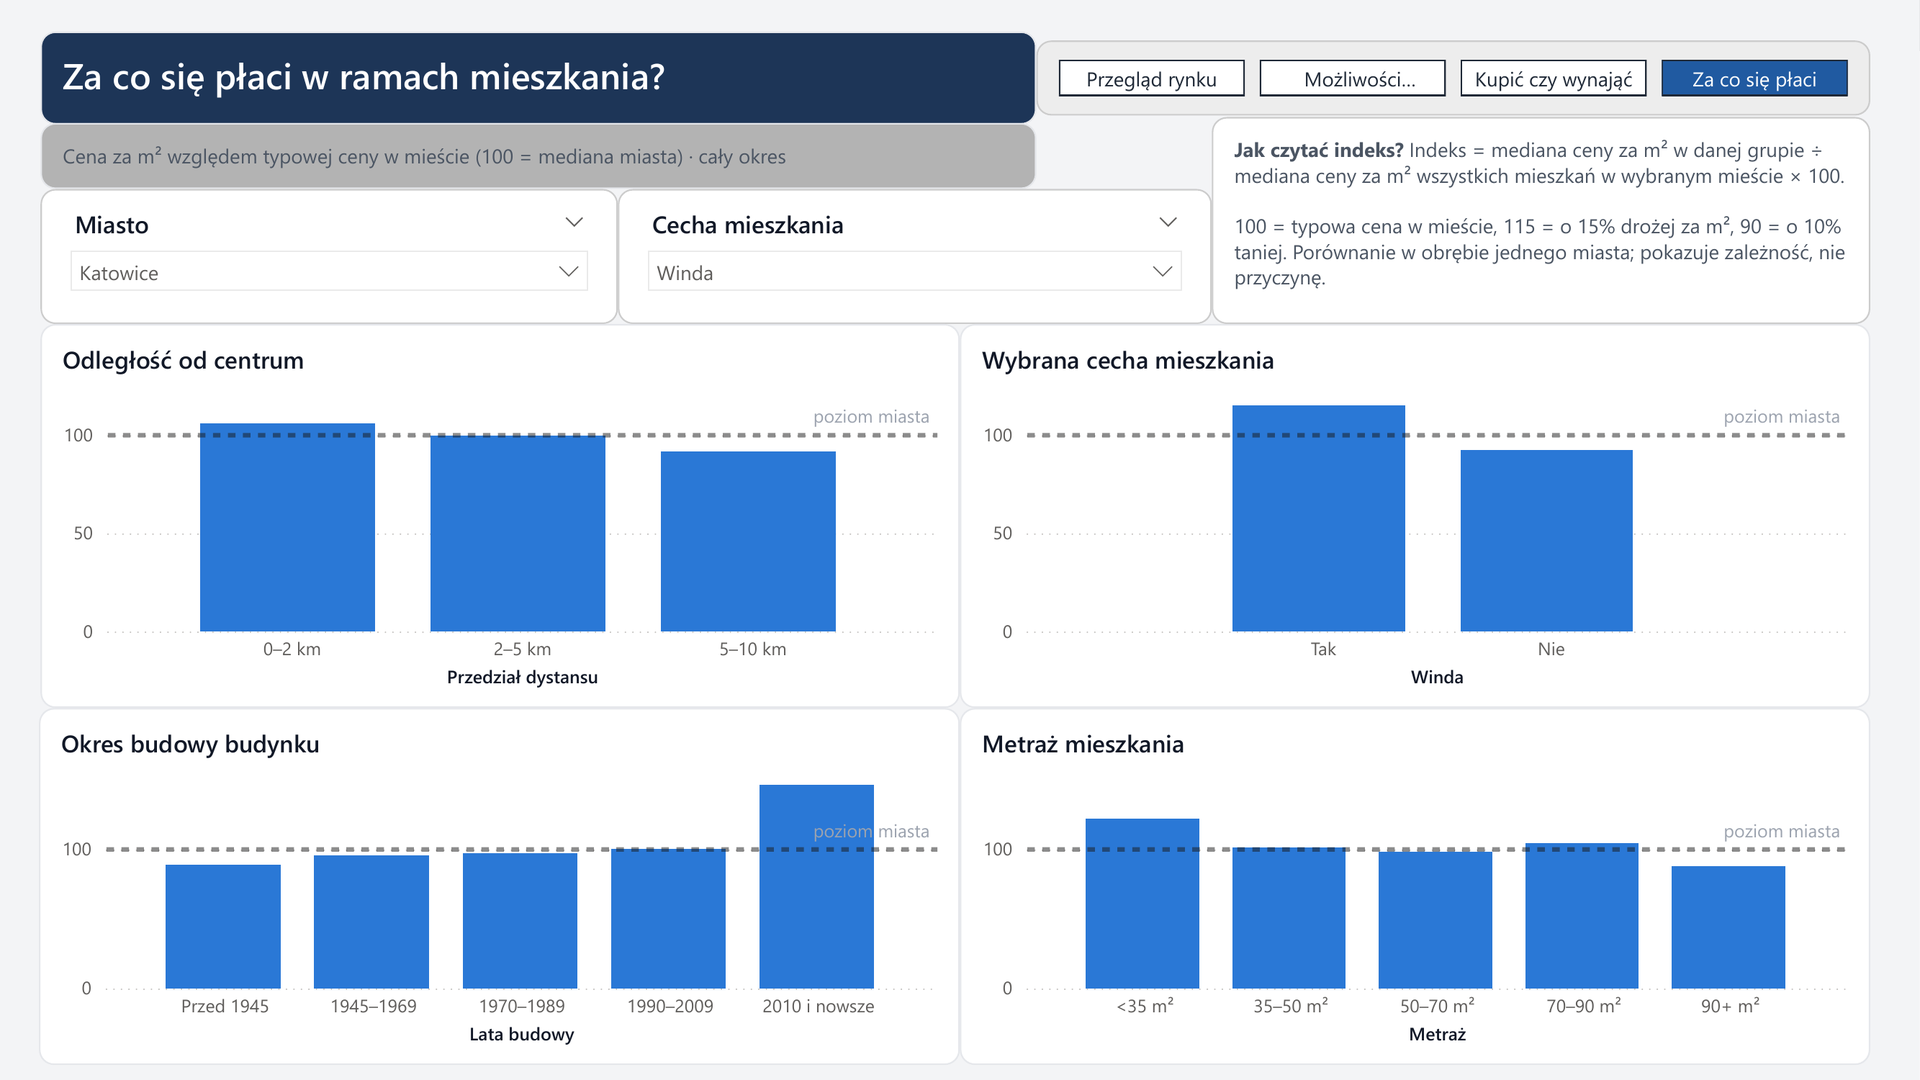

What the dashboard file says about the page in this screenshot:
{"tool":"powerbi","page":{"name":"Za co się płaci","canvas":[1280,720],"ordinal":3},"visuals":[{"type":"textbox","box":[26.5,21,664.3,61.9],"z":0},{"type":"textbox","box":[26.5,81.8,664.3,44.2],"z":1000},{"type":"pageNavigator","box":[690.8,26.5,556,50.8],"z":2000},{"type":"slicer","fields":{"Values":["Cecha mieszkania.Cecha mieszkania"]},"box":[412.2,126.3,395.6,90.1],"z":3000},{"type":"slicer","fields":{"Values":["dim_city.city_name"]},"box":[26.9,126.3,385.2,90.1],"z":4000},{"type":"clusteredColumnChart","title":"Odległość od centrum","fields":{"Category":["dim_listing.distance_zone"],"Y":["_Measures.Price Index vs City"]},"box":[26.9,216.4,613.1,255.8],"z":5000},{"type":"clusteredColumnChart","title":"Okres budowy budynku","fields":{"Y":["_Measures.Price Index vs City"],"Category":["dim_listing.build_era"]},"box":[25.9,472.2,614.1,238.2],"z":6000},{"type":"clusteredColumnChart","title":"Metraż mieszkania","fields":{"Category":["dim_listing.size_band"],"Y":["_Measures.Price Index vs City"]},"box":[640,472.2,606.9,238.2],"z":7000},{"type":"clusteredColumnChart","title":"Wybrana cecha mieszkania","fields":{"Category":["dim_listing.elevator"],"Y":["_Measures.Price Index vs City"]},"box":[640,216.4,606.9,255.8],"z":8000},{"type":"textbox","box":[807.8,77.7,439.1,138.8],"z":9000}]}

Visuals, with their boxes in screenshot pixels (x1, y1, x2, y2), scaled from the page's 1280x720 canvas onto the 1920x1080 screenshot:
textbox: (40,32,1036,124)
textbox: (40,123,1036,189)
pageNavigator: (1036,40,1870,116)
slicer - Cecha mieszkania.Cecha mieszkania: (618,189,1212,325)
slicer - dim_city.city_name: (40,189,618,325)
"Odległość od centrum" clusteredColumnChart: (40,325,960,708)
"Okres budowy budynku" clusteredColumnChart: (39,708,960,1066)
"Metraż mieszkania" clusteredColumnChart: (960,708,1870,1066)
"Wybrana cecha mieszkania" clusteredColumnChart: (960,325,1870,708)
textbox: (1212,117,1870,325)
